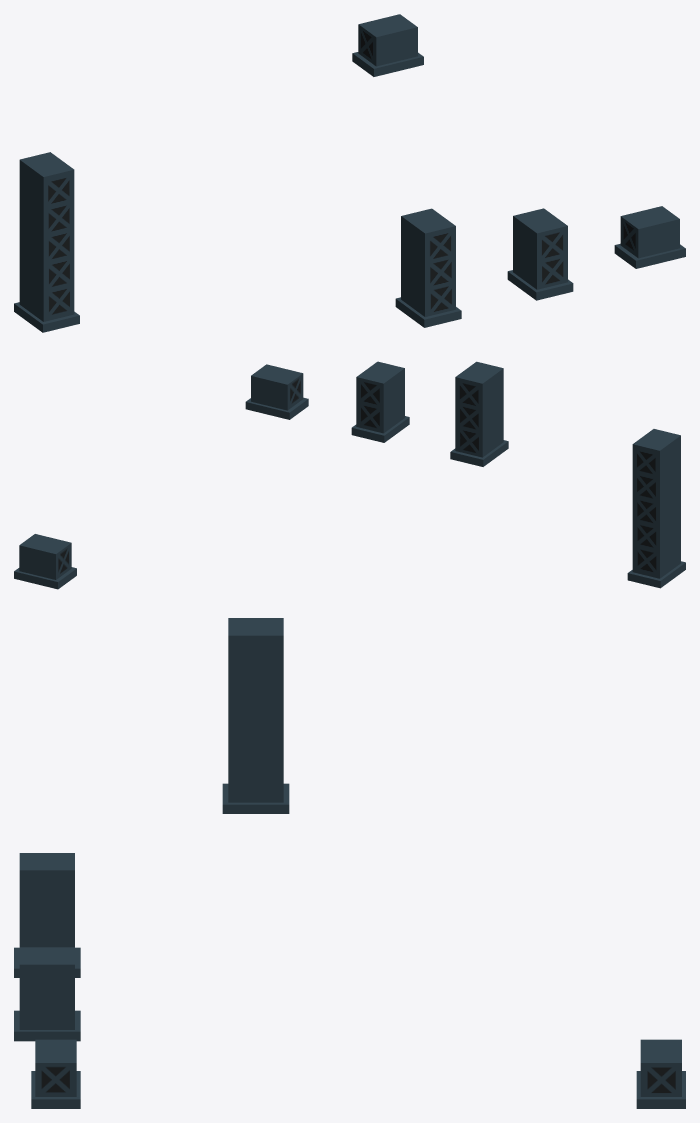
The model's file is columns.fbx.
The picture shows the model from 3 angles, top to bottom: view 1: azimuth 30°, elevation 25°; view 2: azimuth 150°, elevation 25°; view 3: azimuth 270°, elevation 25°; orthographic projection. The views are drawn at different scales.
Parts seen in each view (by area): view 1: Cube.025, Cube.022, Cube.023, Cube.077, Cube.018; view 2: Cube.025, Cube.022, Cube.023, Cube.018, Cube.077; view 3: Cube.025, Cube.022, Cube.023, Cube.018, Cube.077.
Part boxes in pixels (box(x1,y1,x2,y2)): Cube.025: box(14, 152, 79, 332); Cube.022: box(395, 208, 461, 327); Cube.023: box(507, 208, 573, 300); Cube.077: box(352, 14, 423, 76); Cube.018: box(614, 206, 685, 268); Cube.025: box(627, 429, 685, 588); Cube.022: box(450, 361, 508, 466); Cube.023: box(351, 361, 409, 442); Cube.018: box(245, 364, 308, 419); Cube.077: box(14, 534, 76, 589); Cube.025: box(222, 618, 289, 813); Cube.022: box(14, 853, 80, 977); Cube.023: box(14, 947, 80, 1041); Cube.018: box(31, 1039, 80, 1108); Cube.077: box(636, 1039, 685, 1108).
Size of the model in its own units: 12824 by 3351 by 11540.
1 material, 1 textured.
